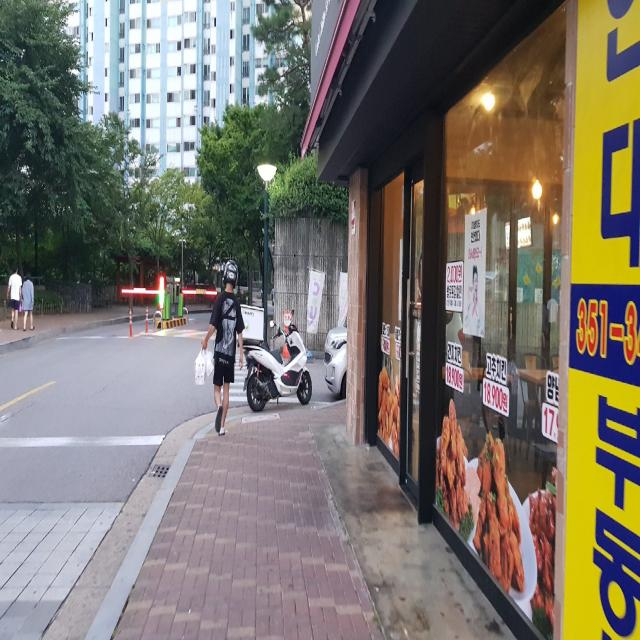횡단보도: (220, 353, 302, 404)
